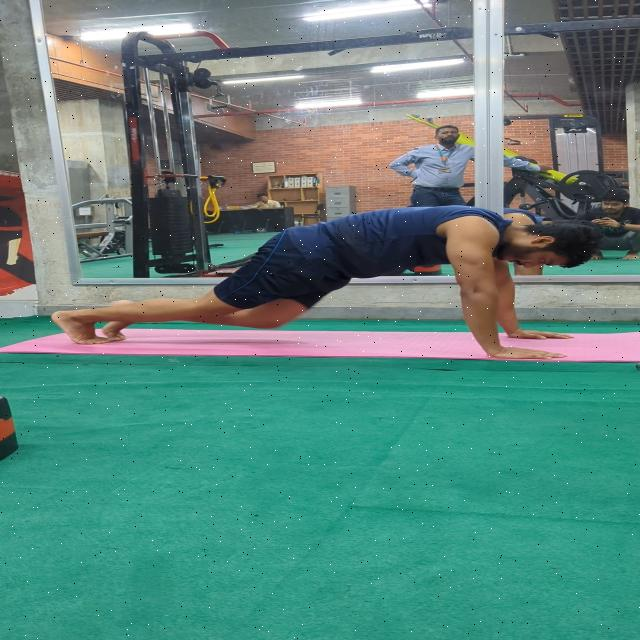Normal_MountainClimbers: (31, 198, 606, 364)
